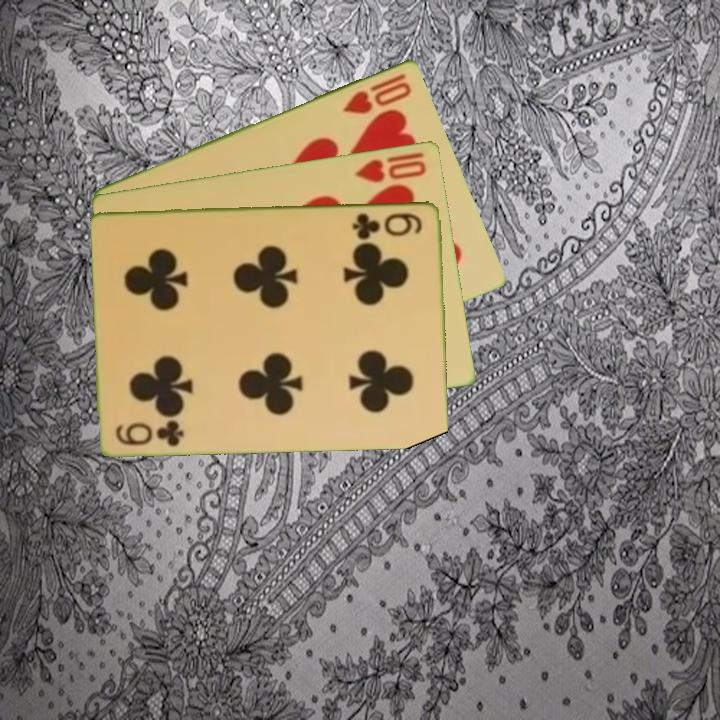10h: (339, 69, 415, 117), (351, 148, 429, 185)
6c: (113, 416, 187, 449), (349, 208, 425, 240)
